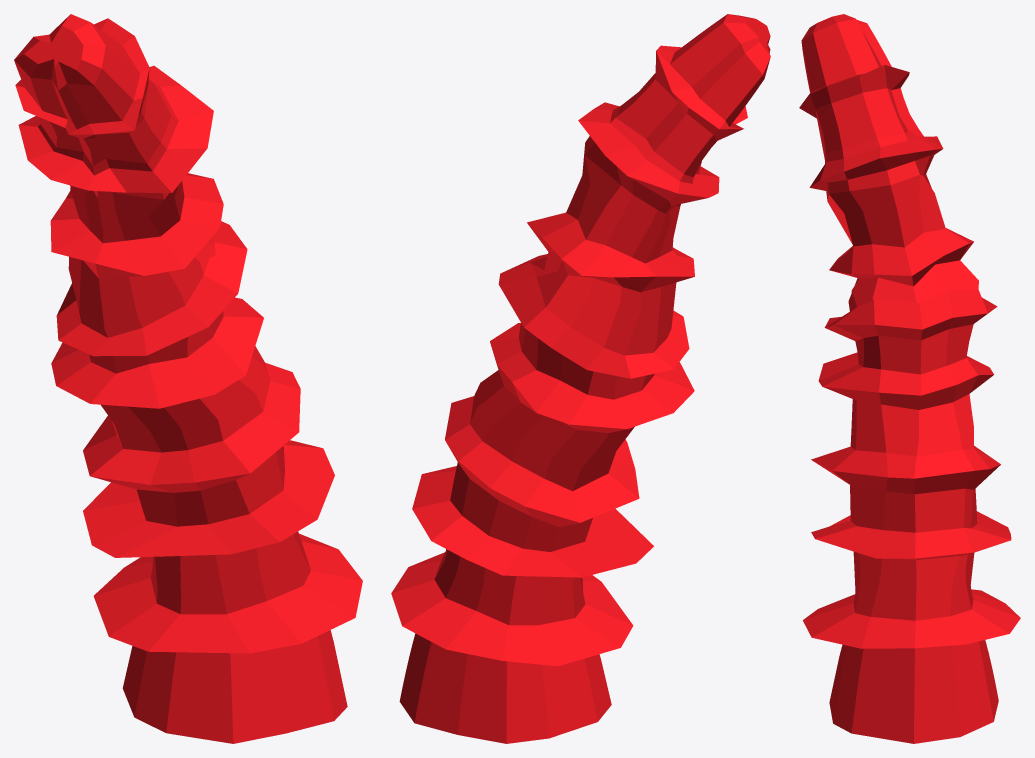
Rendered from treespire2.obj.
3 renders of one model, left to right at view 1: azimuth 30°, elevation 25°; view 2: azimuth 150°, elevation 25°; view 3: azimuth 270°, elevation 25°, orthographic. The views are drawn at different scales.
Parts seen in each view (by area): view 1: Cylinder; view 2: Cylinder; view 3: Cylinder.
Boxes of the visible parts, left/top/right/bottom form: Cylinder: left=14, top=14, right=362, bottom=743; Cylinder: left=391, top=14, right=770, bottom=743; Cylinder: left=799, top=14, right=1020, bottom=743.
Bounding box in the file's own units: 1.69 × 3.46 × 1.15.
